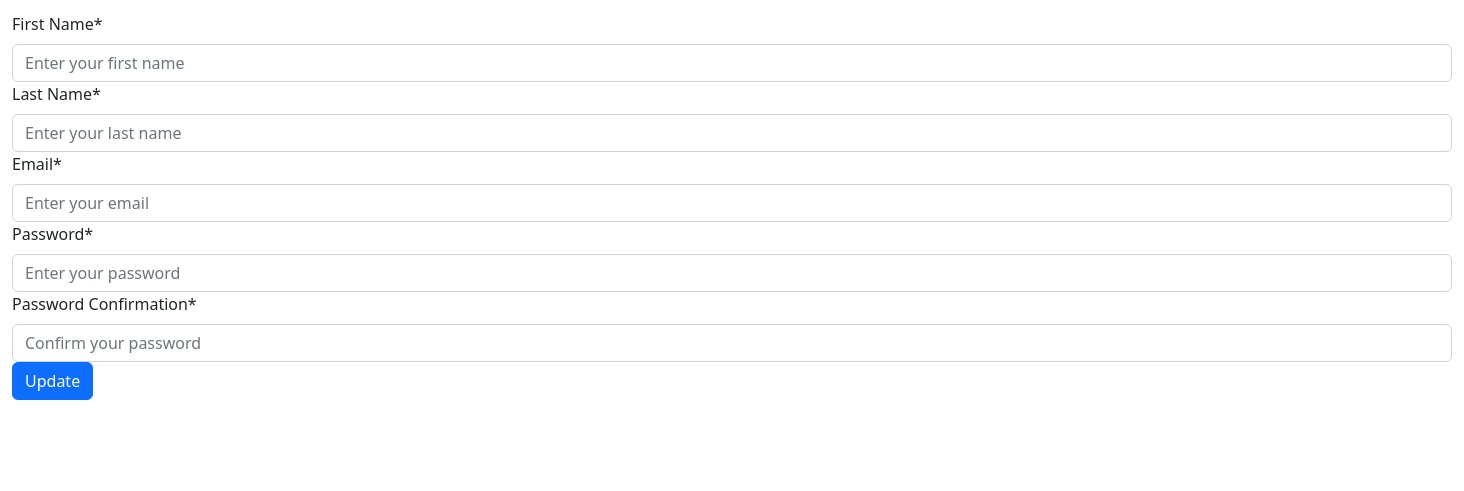
Test: The User Profile Component › displays an error message if first name blank
This screenshot has width=1464, height=491.
Click the button "Update" at (53, 381), box [12,362,93,400]
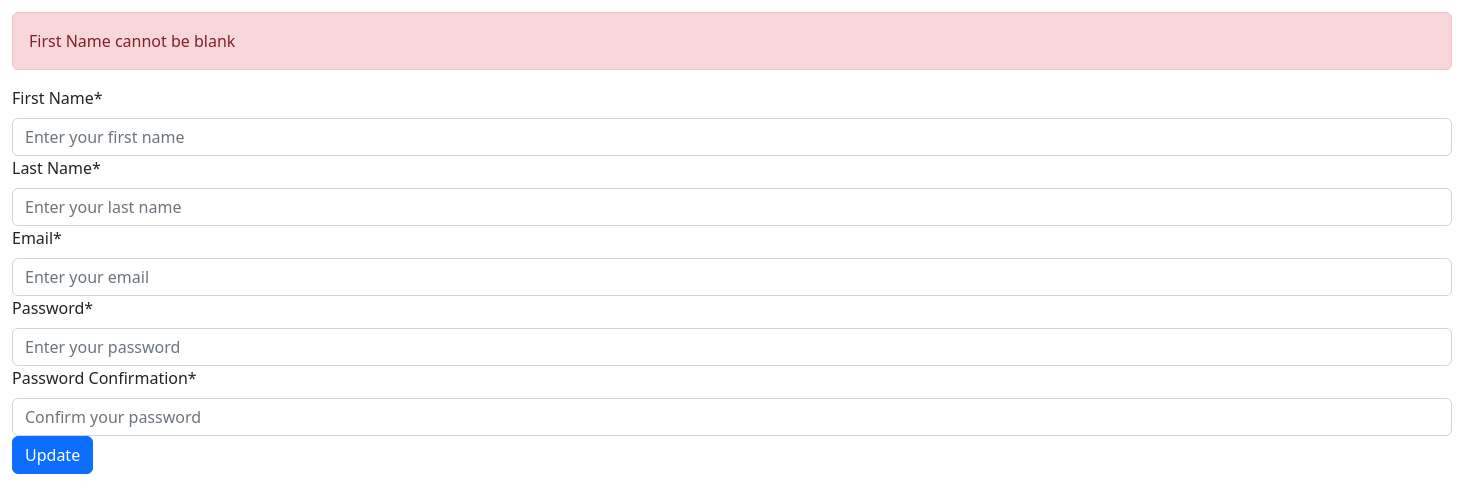
Expected: the text "First Name cannot be blank" is shown, [12,12,1452,70]
